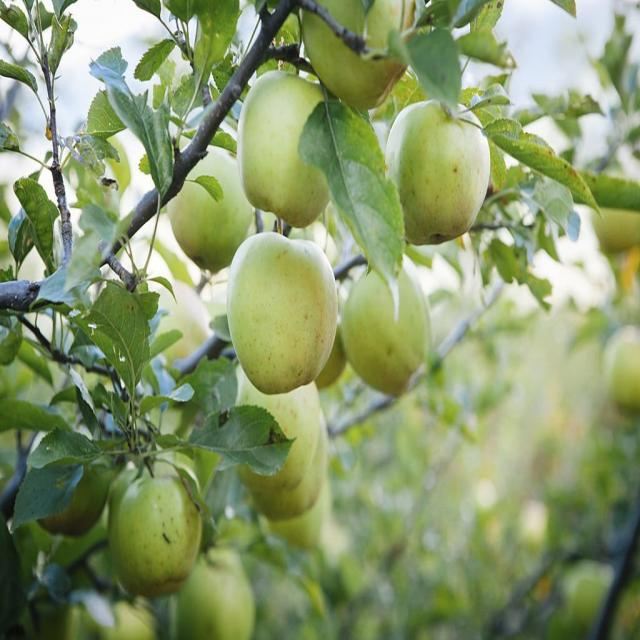Green Apple: (233, 226, 344, 392), (390, 101, 494, 238), (238, 72, 336, 217), (303, 1, 414, 107), (349, 264, 432, 397), (114, 475, 204, 586), (236, 375, 318, 480), (30, 429, 109, 534), (177, 152, 251, 260), (267, 401, 329, 517), (188, 551, 257, 640), (596, 170, 640, 256), (608, 329, 640, 410)
